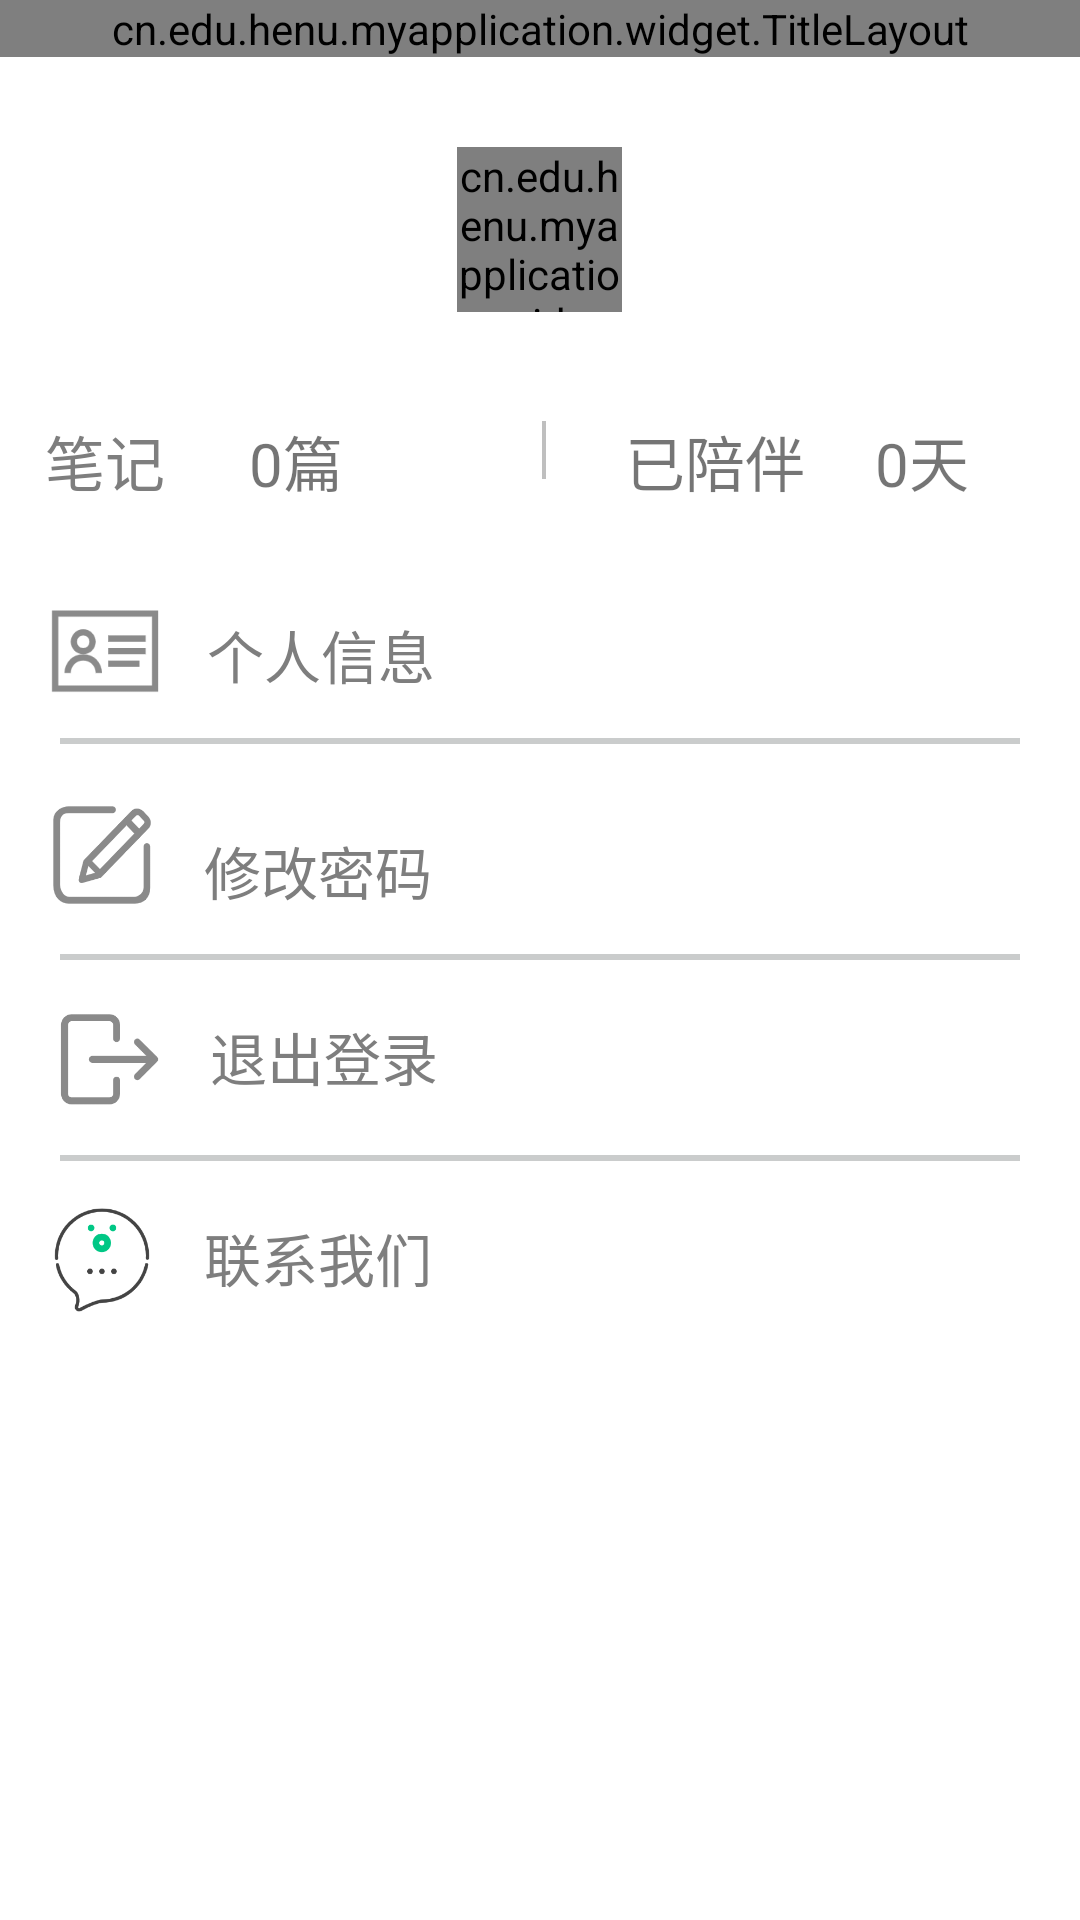

Screen size 1080 x 1920. Icon name, then its box in pixels as (x1, y1, x2, y2):
callus: (55, 1208, 149, 1312)
myinformation: (52, 610, 158, 692)
out: (61, 1014, 158, 1105)
pwdchange: (53, 806, 151, 904)
